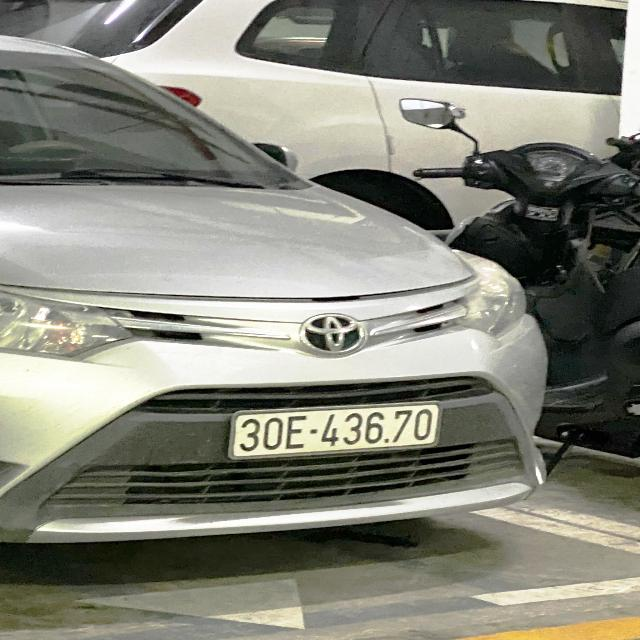license_plate: (230, 402, 443, 461)
